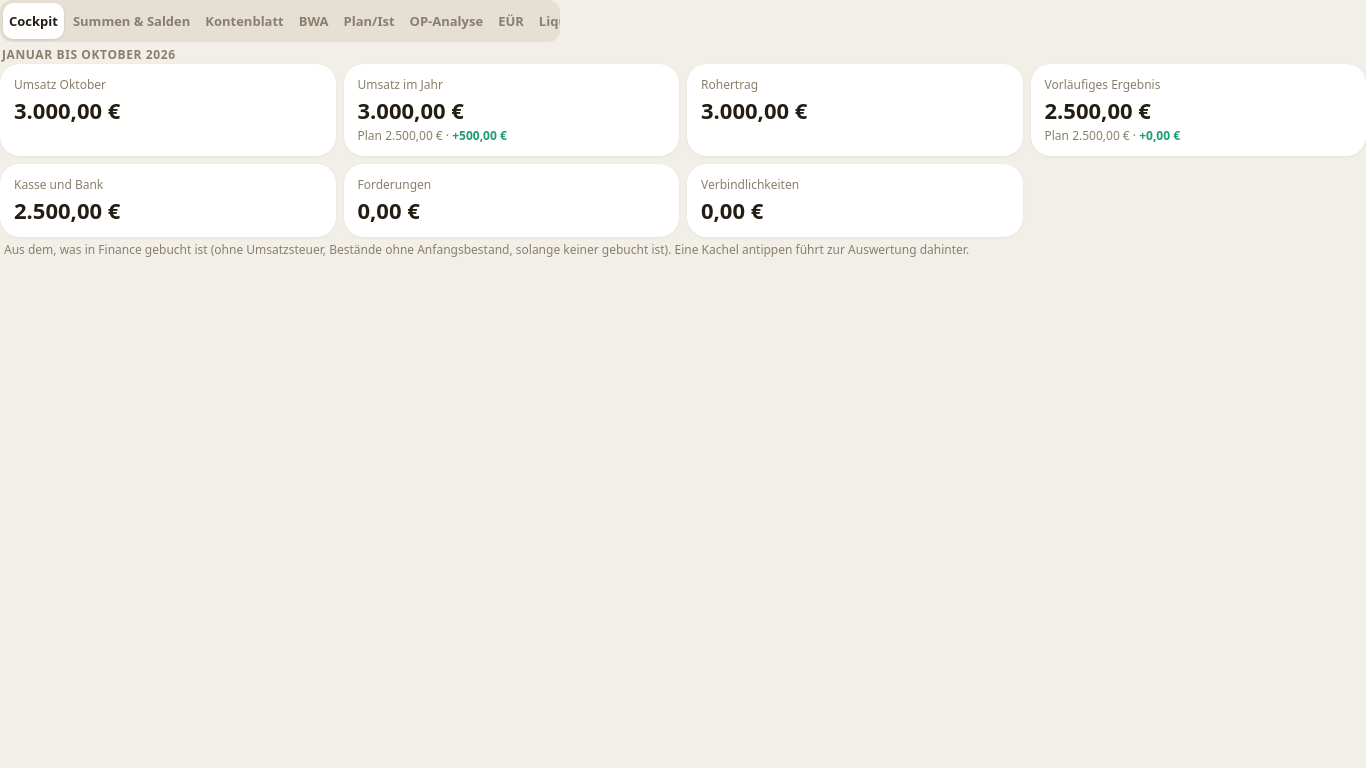
Test case: Auswertungen Stufe G › Plan/Ist ohne Recht: kein Planen; Drucken öffnet den Bericht
This screenshot has width=1366, height=768.
Click the tab "Plan/Ist". click: (369, 21)
box: x1=338 y1=3 x2=401 y2=39
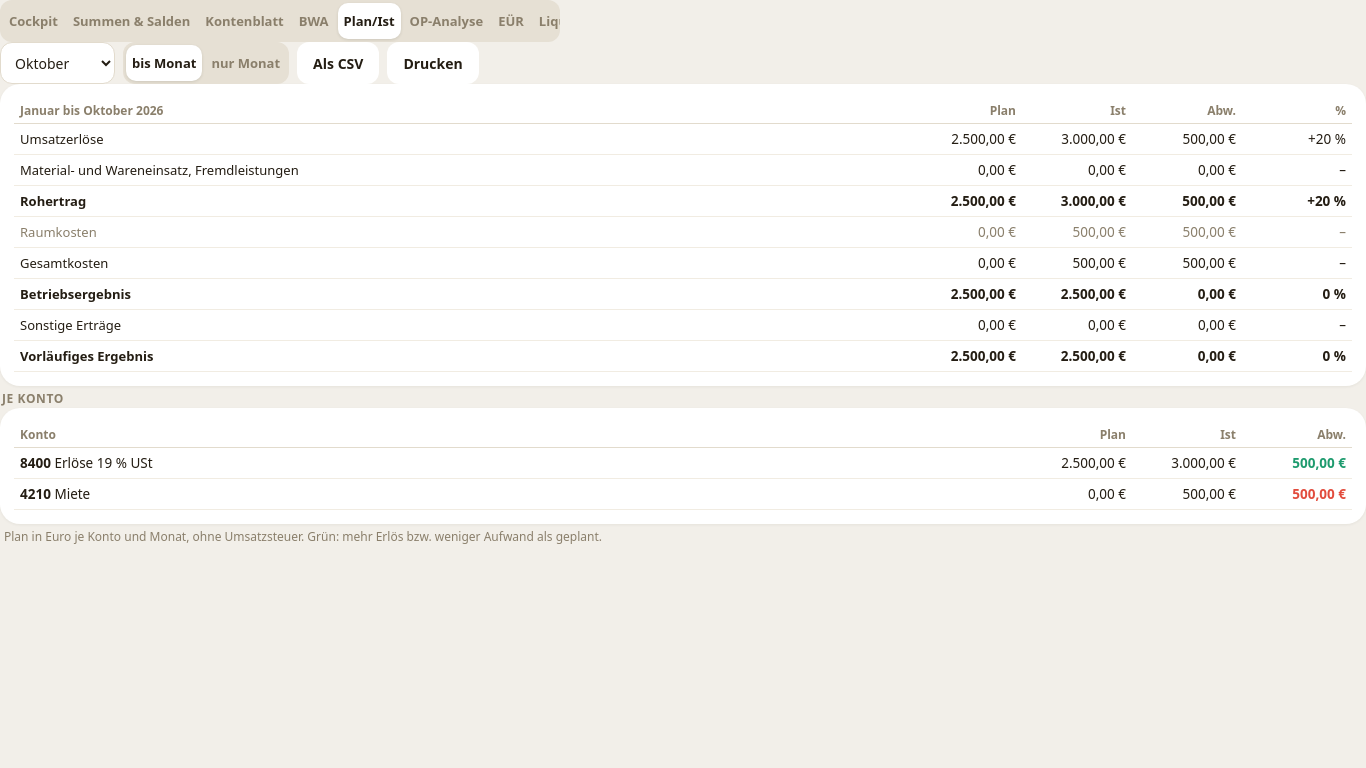
Now the text "Umsatzerlöse" is shown, box x1=14 y1=124 x2=912 y2=154
Click the button "Drucken". click: (433, 63)
box: x1=387 y1=42 x2=479 y2=84
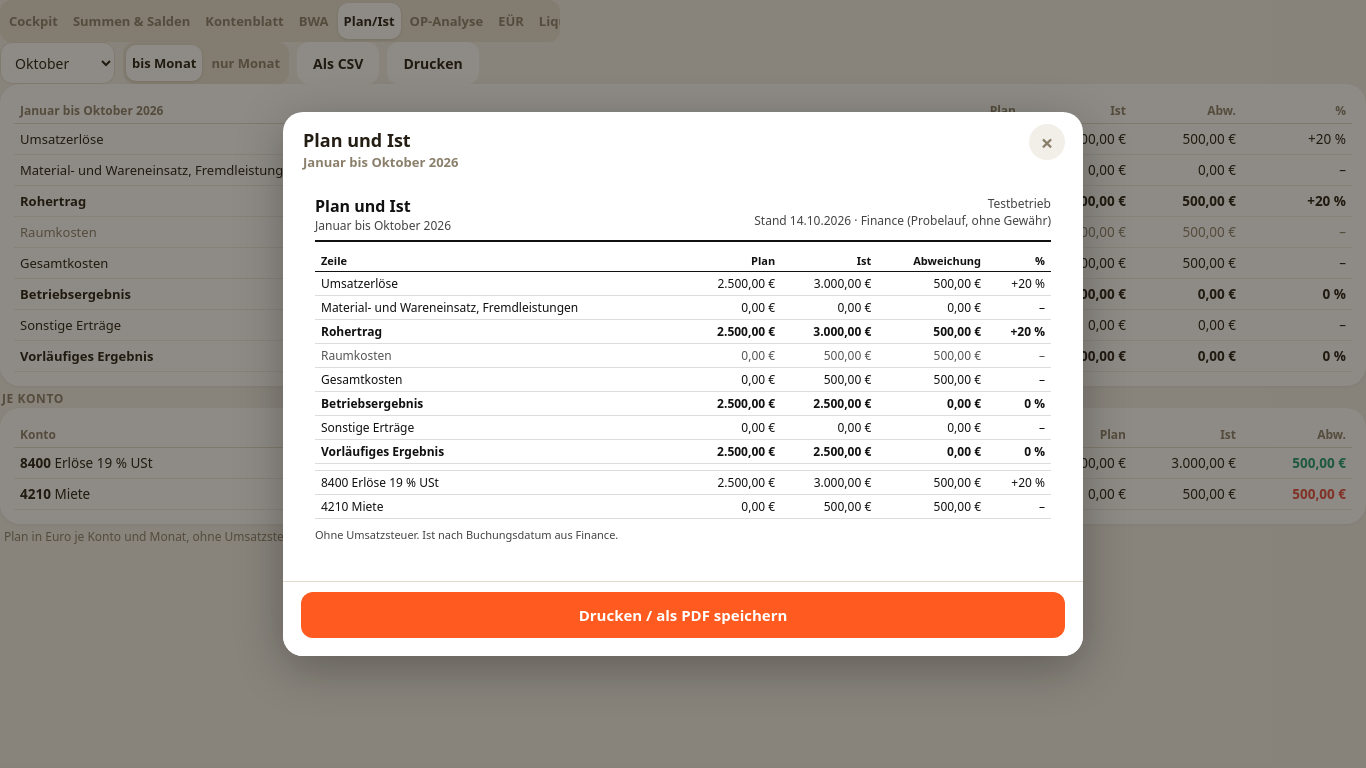
Now the dialog "Plan und Ist" shows "Testbetrieb", box x1=988 y1=195 x2=1051 y2=212
